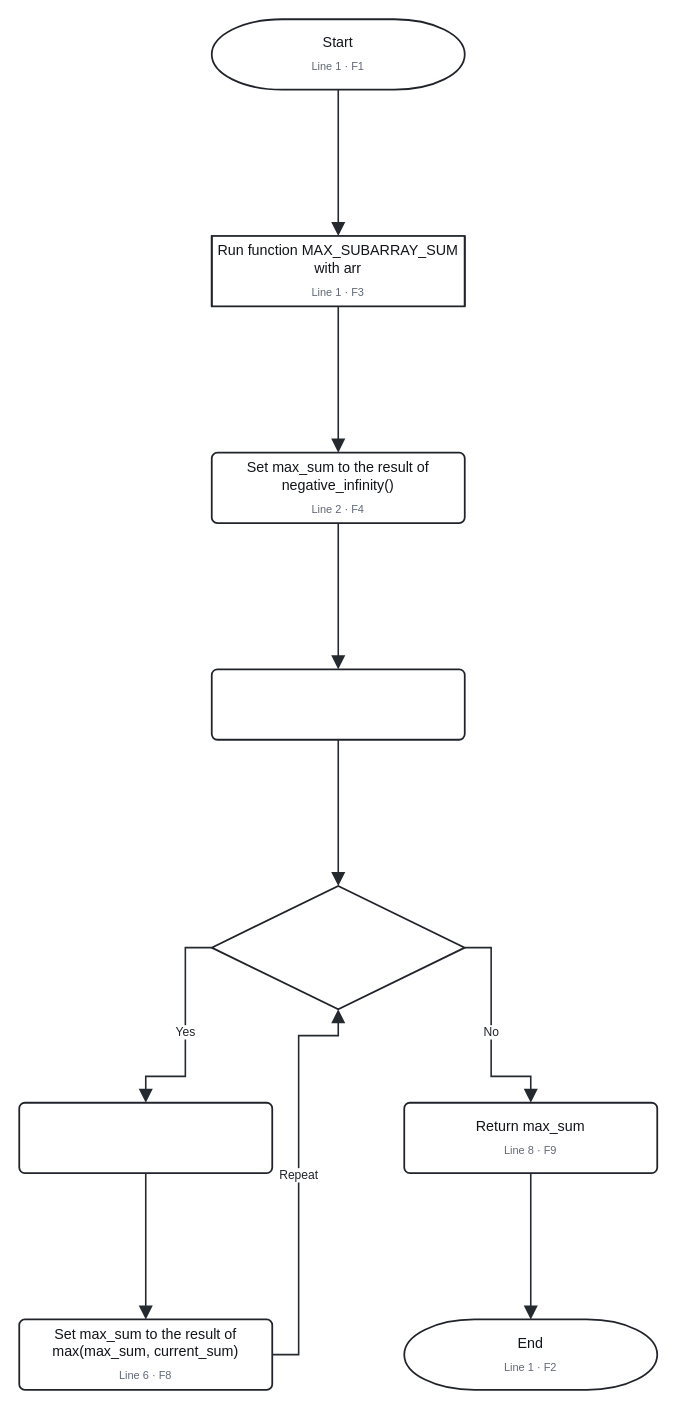
Some shapes in this 678 by 1410 pixel diagram are drawn without their labels. Each missing label, with the centre of its shape:
"For each num in arr Line 4 · F6" goes at point (337, 947).
"Set current_sum to 0 Line 3 · F5" goes at point (337, 704).
"Set current_sum to the result of max(num, current_sum plus num) Line 5 · F7" goes at point (145, 1137).
